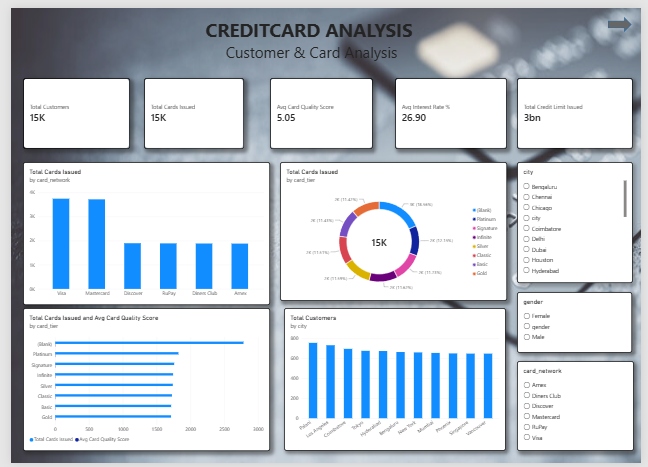

This screenshot's page, from the dashboard's own definition file:
{"tool":"powerbi","page":{"name":"Customer","canvas":[1800,1300],"ordinal":0},"visuals":[{"type":"textbox","box":[380,25,957.5,135],"z":0},{"type":"cardVisual","fields":{"Data":["customer_details_clean.Total Customers"]},"box":[34.3,200,305.7,202.9],"z":1000},{"type":"cardVisual","fields":{"Data":["card_quality_details_clean.Total Cards Issued"]},"box":[380,200,285.7,202.9],"z":2000},{"type":"cardVisual","fields":{"Data":["card_quality_details_clean.Avg Card Quality Score"]},"box":[740,200,294.3,202.9],"z":3000},{"type":"cardVisual","fields":{"Data":["card_quality_details_clean.Total Credit Limit Issued"]},"box":[1445.7,200,331.4,202.9],"z":4000},{"type":"cardVisual","fields":{"Data":["card_quality_details_clean.Avg Interest Rate %"]},"box":[1097.1,200,320,202.9],"z":5000},{"type":"clusteredColumnChart","fields":{"Category":["card_quality_details_clean.card_network"],"Y":["card_quality_details_clean.Total Cards Issued"]},"box":[34.3,440,705.7,408.6],"z":6000},{"type":"donutChart","fields":{"Y":["card_quality_details_clean.Total Cards Issued"],"Category":["card_quality_details_clean.card_tier"]},"box":[768.6,440,648.6,397.1],"z":7000},{"type":"clusteredBarChart","fields":{"Y":["card_quality_details_clean.Total Cards Issued","card_quality_details_clean.Avg Card Quality Score"],"Category":["card_quality_details_clean.card_tier"]},"box":[34.3,857.1,705.7,408.6],"z":8000},{"type":"columnChart","fields":{"Y":["customer_details_clean.Total Customers"],"Category":["customer_details_clean.city"]},"box":[780,857.1,634,408],"z":9000},{"type":"listSlicer","fields":{"Values":["customer_details_clean.city"]},"box":[1445.7,440,331.4,345.7],"z":10000},{"type":"listSlicer","fields":{"Values":["card_quality_details_clean.card_network"]},"box":[1445.7,1008.6,334.3,257.1],"z":11000},{"type":"listSlicer","fields":{"Values":["customer_details_clean.gender"]},"box":[1445.7,811.4,328.6,174.3],"z":12000},{"type":"shape","title":"Arrow","box":[1705,25,67.5,42.5],"z":13000}]}

Visuals, with their boxes in screenshot pixels (x1, y1, x2, y2), scaled from the page's 1800x1300 canvas onto the 648x467 screenshot:
textbox: 137:9:482:57
cardVisual - customer_details_clean.Total Customers: 12:72:122:145
cardVisual - card_quality_details_clean.Total Cards Issued: 137:72:240:145
cardVisual - card_quality_details_clean.Avg Card Quality Score: 266:72:372:145
cardVisual - card_quality_details_clean.Total Credit Limit Issued: 520:72:640:145
cardVisual - card_quality_details_clean.Avg Interest Rate %: 395:72:510:145
clusteredColumnChart - card_quality_details_clean.card_network x card_quality_details_clean.Total Cards Issued: 12:158:266:305
donutChart - card_quality_details_clean.Total Cards Issued x card_quality_details_clean.card_tier: 277:158:510:301
clusteredBarChart - card_quality_details_clean.Total Cards Issued x card_quality_details_clean.Avg Card Quality Score: 12:308:266:455
columnChart - customer_details_clean.Total Customers x customer_details_clean.city: 281:308:509:454
listSlicer - customer_details_clean.city: 520:158:640:282
listSlicer - card_quality_details_clean.card_network: 520:362:641:455
listSlicer - customer_details_clean.gender: 520:291:639:354
"Arrow" shape: 614:9:638:24
